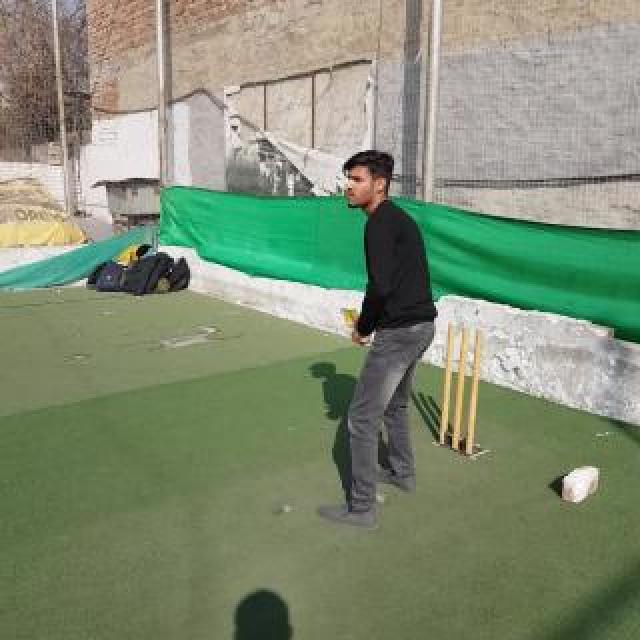bat: (340, 308, 372, 344)
